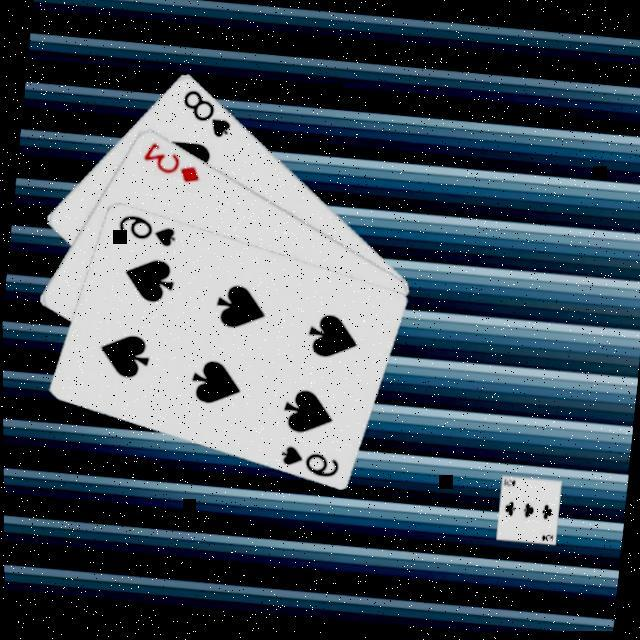3D: (137, 138, 205, 189)
6S: (275, 442, 342, 484), (114, 211, 180, 253)
8S: (176, 86, 237, 144)
